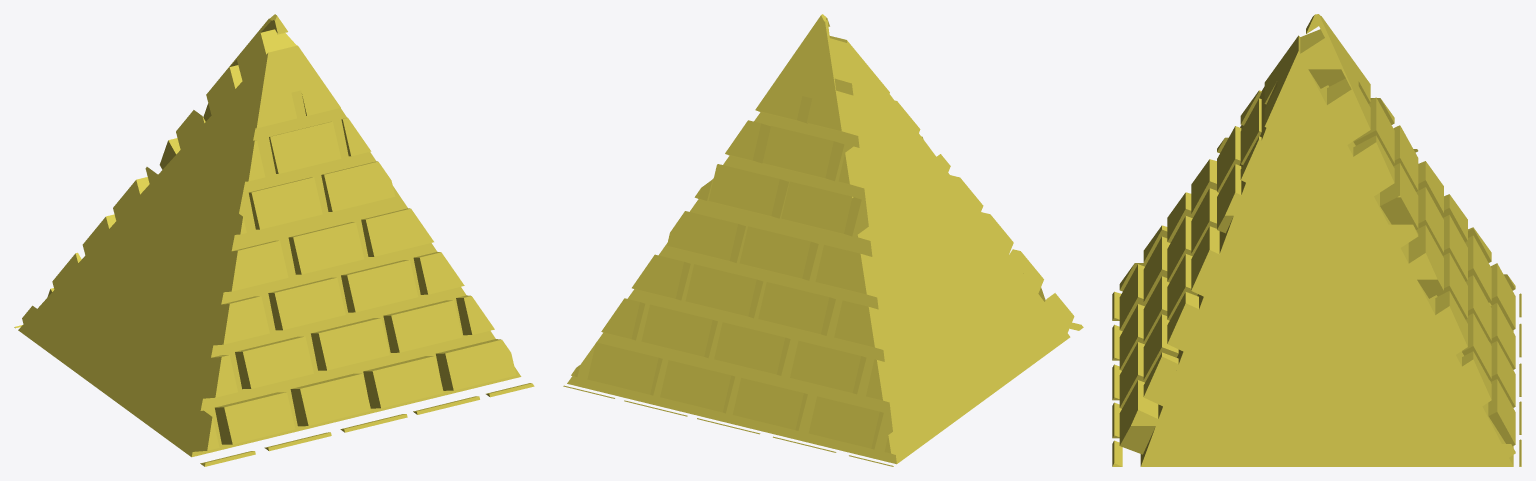
Rendered from LeoH pyrimidine of giza.glb.
3 renders of one model, left to right at view 1: azimuth 30°, elevation 25°; view 2: azimuth 150°, elevation 25°; view 3: azimuth 270°, elevation 25°, orthographic. The views are drawn at different scales.
Parts seen in each view (by area): view 1: Mesh_Mesh_head_geo.001_lambert2SG.001; view 2: Mesh_Mesh_head_geo.001_lambert2SG.001; view 3: Mesh_Mesh_head_geo.001_lambert2SG.001.
Boxes of the visible parts, bbox=[...] form: Mesh_Mesh_head_geo.001_lambert2SG.001: bbox=[14, 14, 534, 466]; Mesh_Mesh_head_geo.001_lambert2SG.001: bbox=[563, 14, 1083, 466]; Mesh_Mesh_head_geo.001_lambert2SG.001: bbox=[1112, 14, 1521, 466].
Bounding box in the file's own units: 0.1 × 0.0991 × 0.1.
